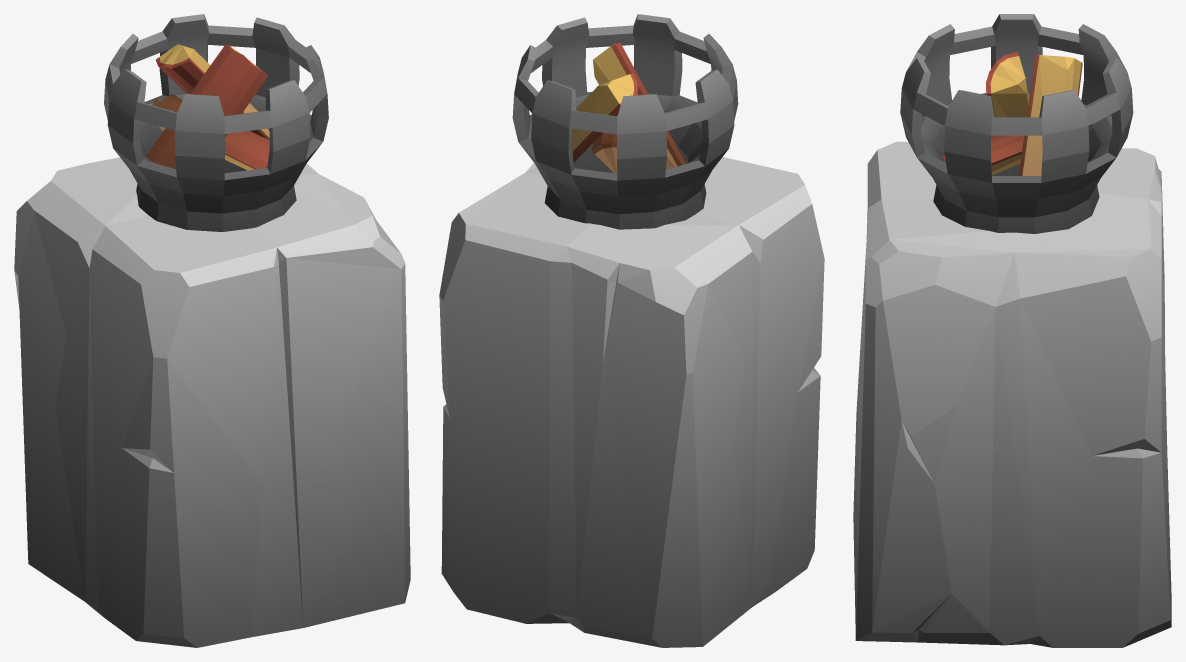
Rendered from RockBlock_Torch1.fbx.
The picture shows the model from 3 angles, left to right: view 1: azimuth 30°, elevation 25°; view 2: azimuth 150°, elevation 25°; view 3: azimuth 270°, elevation 25°; orthographic projection. The views are drawn at different scales.
Parts seen in each view (by area): view 1: RockBlock_Torch1; view 2: RockBlock_Torch1; view 3: RockBlock_Torch1.
Part boxes in pixels (bbox=[...]): RockBlock_Torch1: bbox=[14, 14, 410, 647]; RockBlock_Torch1: bbox=[439, 14, 824, 647]; RockBlock_Torch1: bbox=[853, 14, 1171, 647].
Size of the model in its own units: 0.9109 by 1.73 by 0.9227.
